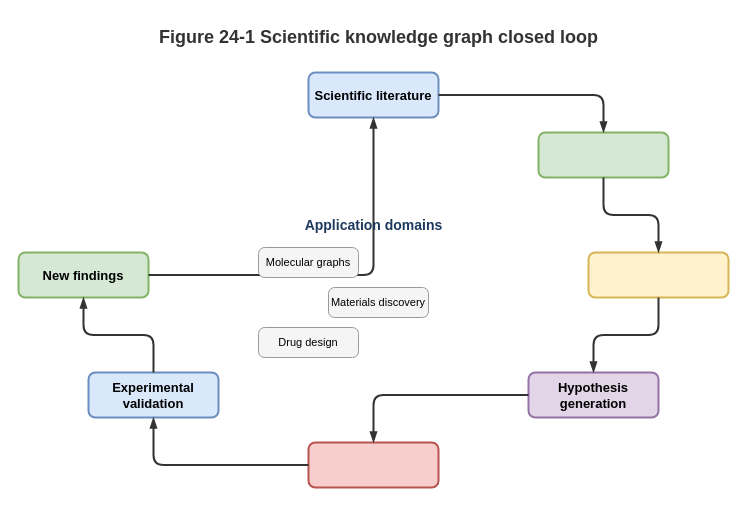
This 746x505 diagram has some shape labels left out. Here are the shapes that lost their labels. From the top down, the box of each, then its label:
(537, 131, 669, 178): Knowledge extraction
(587, 251, 729, 298): Scientific knowledge graph
(307, 441, 439, 488): Experiment design
